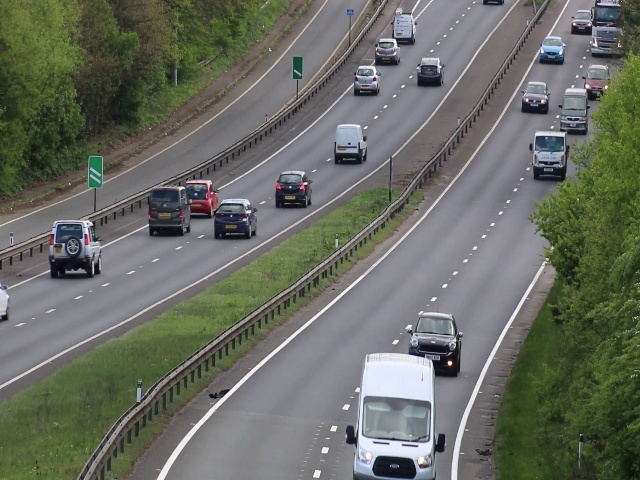car: (351, 351, 443, 480), (50, 218, 102, 276), (409, 310, 462, 362), (147, 185, 191, 235), (214, 197, 258, 240), (532, 131, 569, 180), (591, 2, 623, 51), (275, 168, 313, 209), (332, 123, 369, 163), (561, 88, 589, 133), (185, 178, 218, 215), (389, 11, 418, 42), (415, 56, 444, 87), (523, 80, 550, 113), (353, 65, 381, 95), (586, 64, 609, 98), (374, 38, 402, 65), (539, 35, 565, 64), (570, 8, 593, 34)
